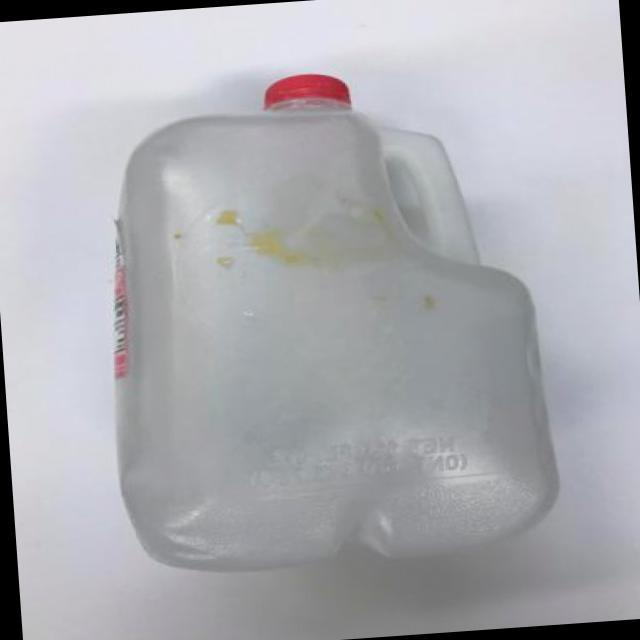HDPE Plastic: (108, 72, 566, 578)
